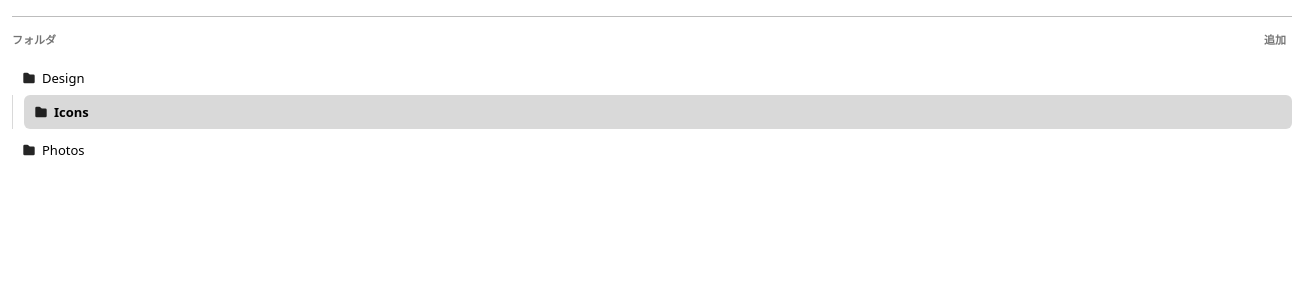
FolderTree › opens a context menu with folder actions on right click
The image size is (1304, 297).
Right-click the button "Icons": (71, 112) top-left (24, 95), bottom-right (1292, 129)
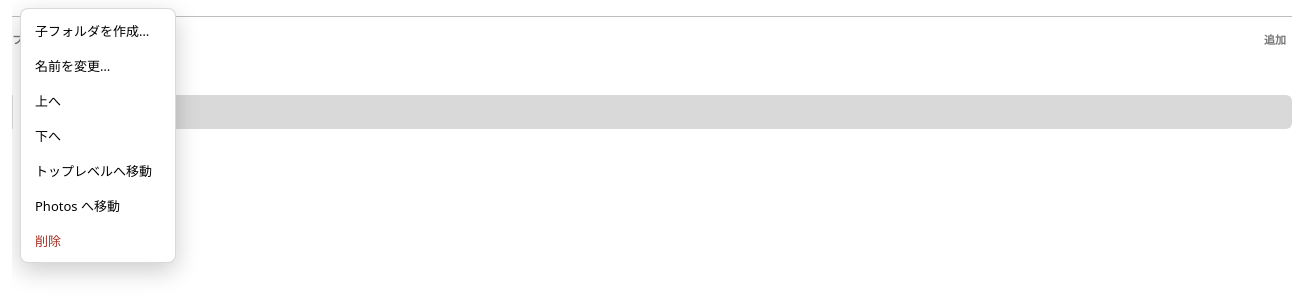
Expected: the menu named "Icons の操作" is shown, top-left (20, 8), bottom-right (176, 263)
Expected: the menu item "子フォルダを作成…" is shown, top-left (21, 13), bottom-right (175, 48)
Expected: the menu item "削除" is shown, top-left (21, 223), bottom-right (175, 258)
